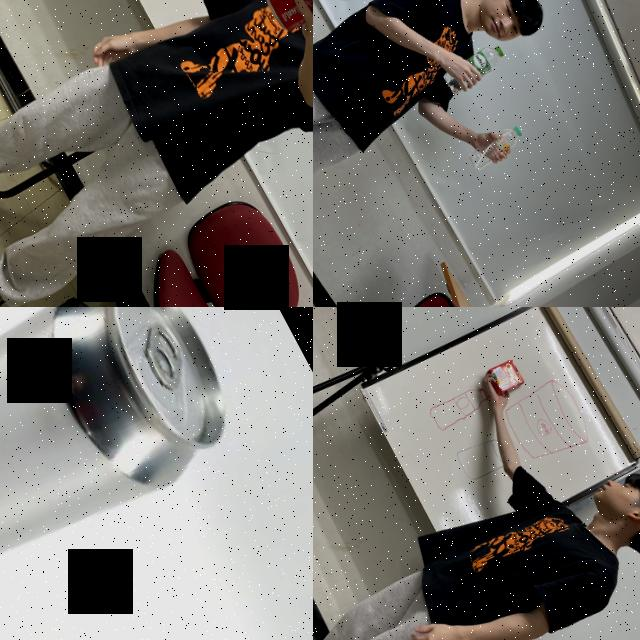bottle: (438, 40, 509, 96), (464, 122, 527, 172)
can: (0, 307, 257, 640)
